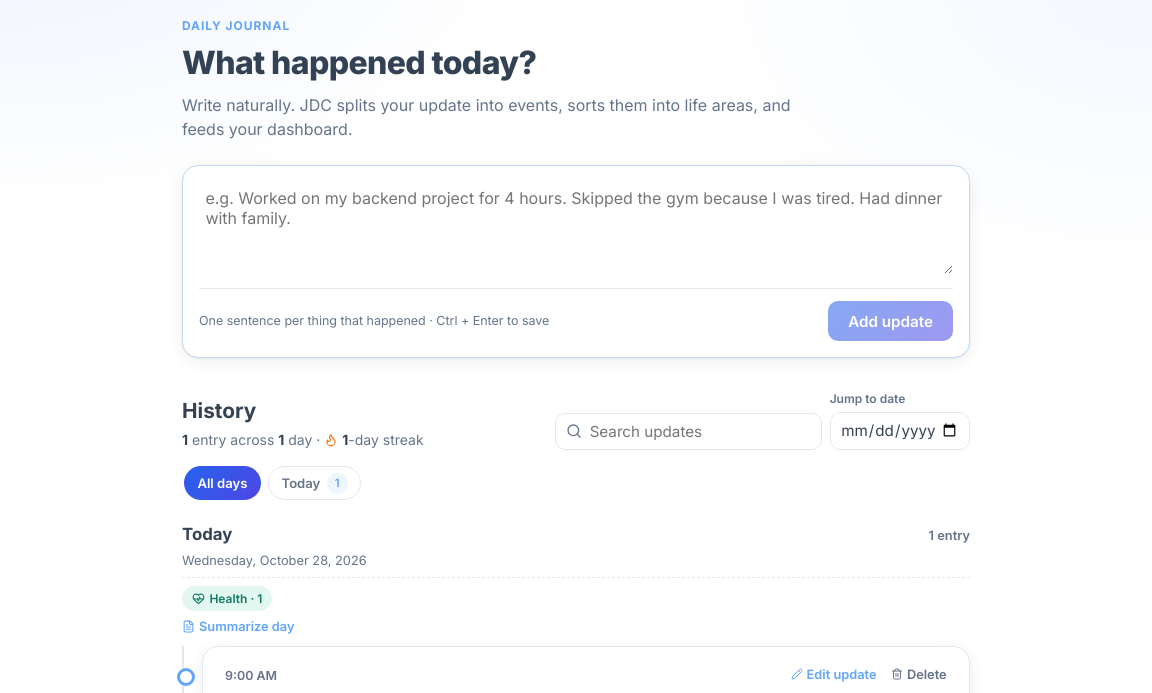
Test: Deleting updates › cancel keeps the entry
The image size is (1152, 693).
Click the button "Delete": (919, 674) [891,667,947,682]
(page scrolled)
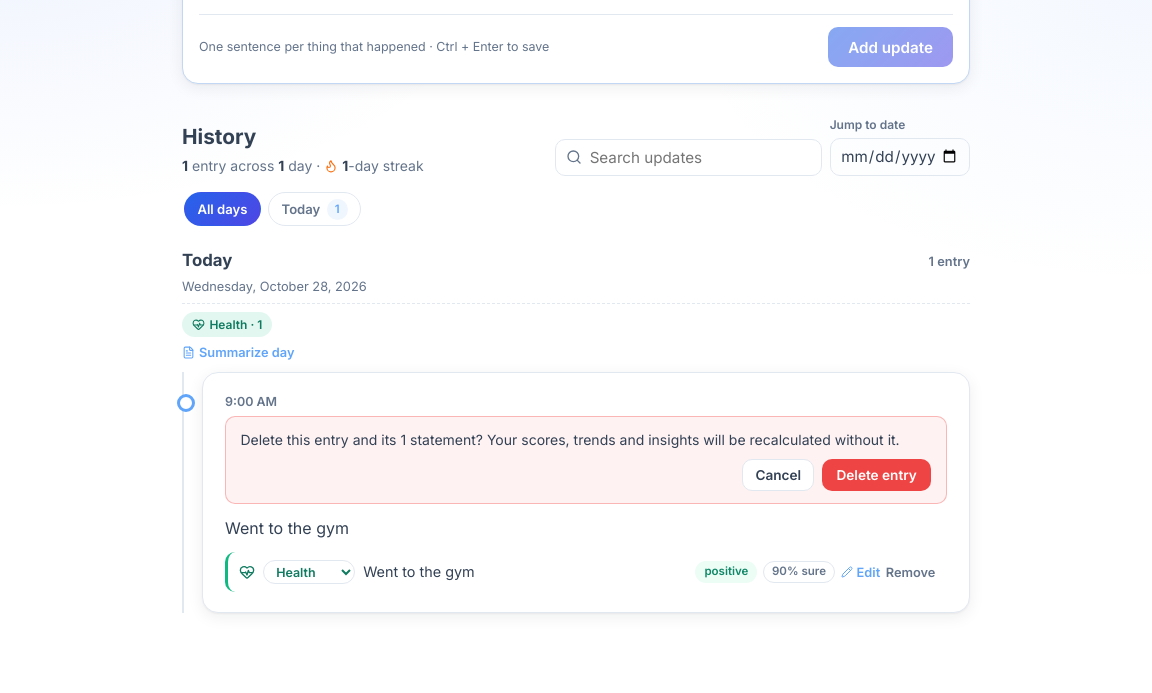
Click the button "Cancel": (778, 475) [742,459,814,491]
(page scrolled)
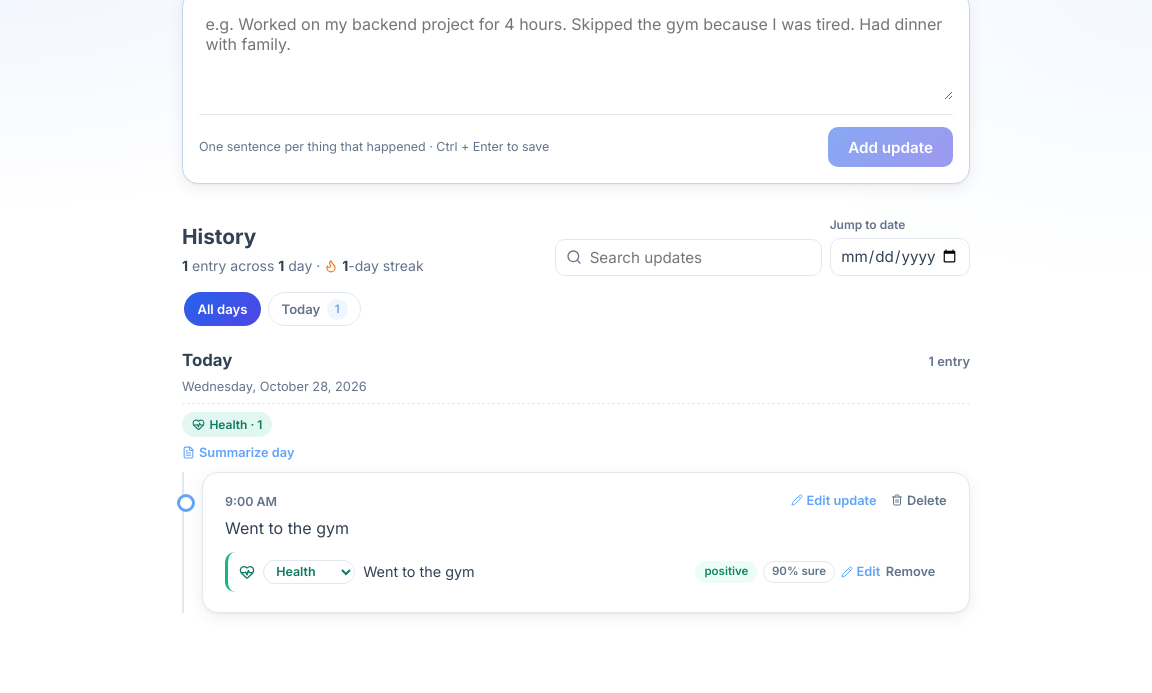
Expected: the 1st text "Went to the gym" is shown, [225,518,349,538]
Result: the dialog is gone
